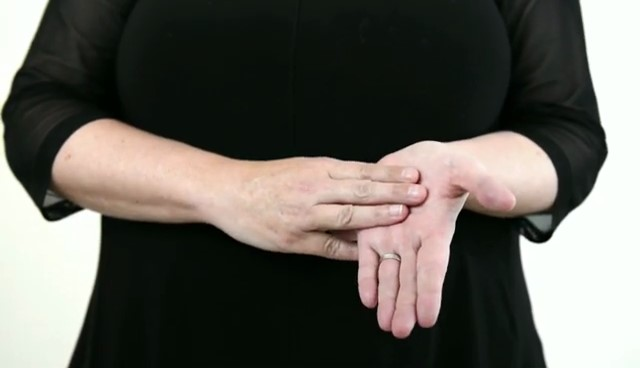M: (205, 133, 522, 343)
